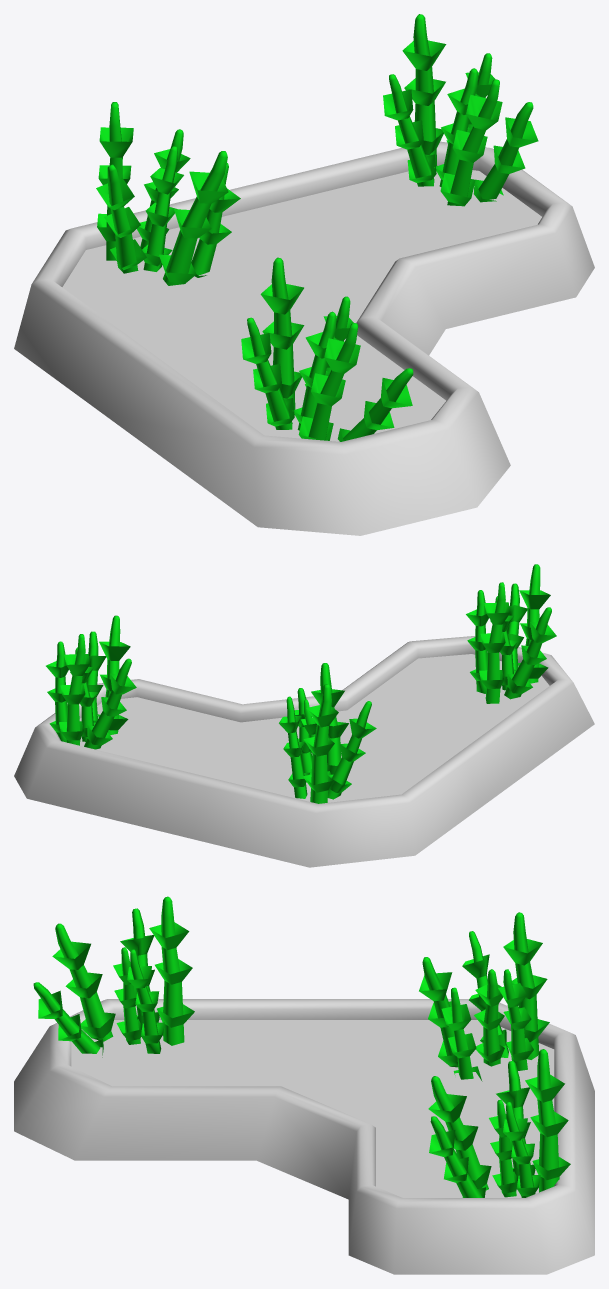
File: prehistoricplanter.fbx
3 renders of one model, top to bottom at view 1: azimuth 30°, elevation 25°; view 2: azimuth 150°, elevation 25°; view 3: azimuth 270°, elevation 25°, orthographic. The views are drawn at different scales.
Visible parts, largest first — view 1: Plane; view 2: Plane; view 3: Plane.
Part boxes in pixels (x1,y1,x2,y2): Plane: (14, 14, 594, 535); Plane: (14, 564, 594, 867); Plane: (14, 896, 594, 1274).
Bounding box in the file's own units: 1009 × 1114 × 394.
